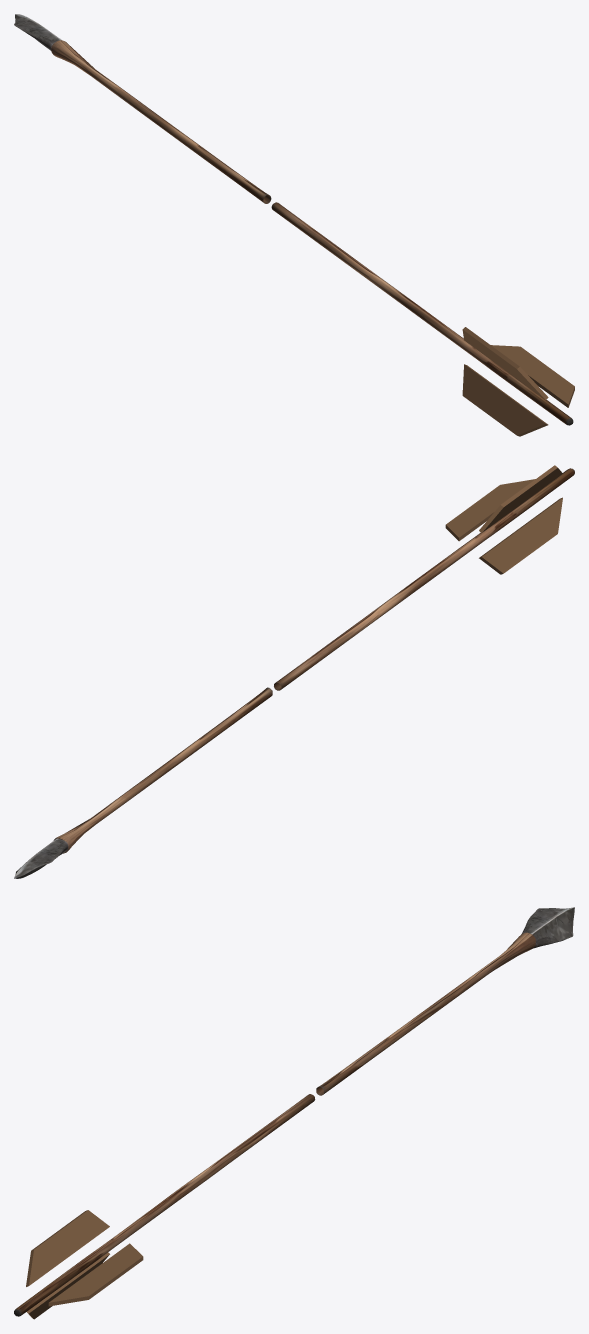
File: arrow.glb
3 views of the same model, one above another, from view 1: azimuth 30°, elevation 25°; view 2: azimuth 150°, elevation 25°; view 3: azimuth 330°, elevation 25° (orthographic).
Parts seen in each view (by area): view 1: Arrow Native Mesh, Compact Brown Feather Fletching; view 2: Arrow Native Mesh, Compact Brown Feather Fletching; view 3: Arrow Native Mesh, Compact Brown Feather Fletching.
Boxes of the visible parts, bbox=[...] form: Arrow Native Mesh: bbox=[14, 14, 573, 425]; Compact Brown Feather Fletching: bbox=[462, 327, 574, 436]; Arrow Native Mesh: bbox=[14, 468, 574, 878]; Compact Brown Feather Fletching: bbox=[445, 465, 562, 574]; Arrow Native Mesh: bbox=[14, 907, 574, 1316]; Compact Brown Feather Fletching: bbox=[26, 1210, 143, 1319].
Bounding box in the file's own units: 0.0493 × 0.0569 × 0.82.
2 materials, 1 textured.
